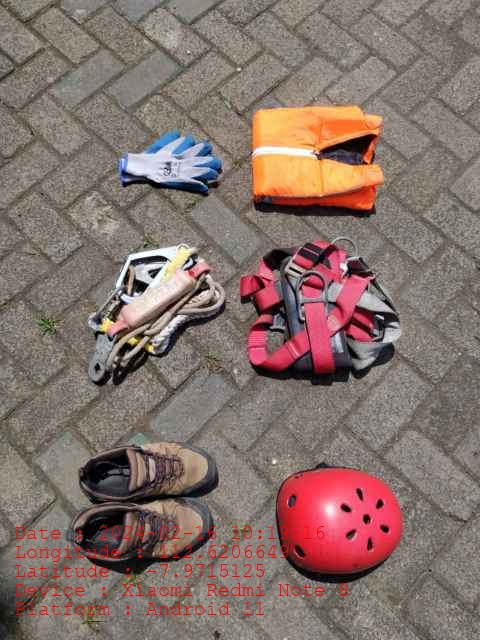ROMPI: (251, 106, 383, 215)
SARUNG_TANGAN: (121, 135, 219, 196)
TAMBANG_SLING: (86, 242, 227, 385)
